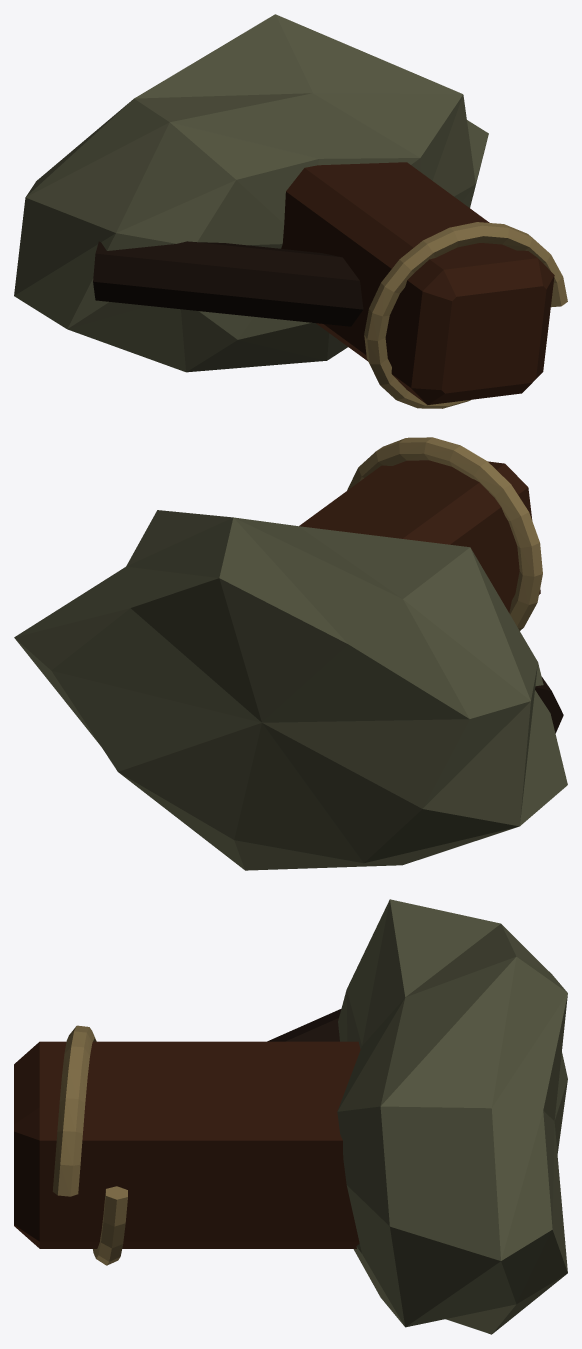
File: BridgeAnchor.obj
3 views of the same model, one above another, from view 1: azimuth 30°, elevation 25°; view 2: azimuth 150°, elevation 25°; view 3: azimuth 270°, elevation 25° (orthographic). The views are drawn at different scales.
Parts seen in each view (by area): view 1: BridgeAnchor; view 2: BridgeAnchor; view 3: BridgeAnchor.
Part boxes in pixels (x1=…): BridgeAnchor: x1=14, y1=14, x2=567, y2=408; BridgeAnchor: x1=14, y1=437, x2=567, y2=870; BridgeAnchor: x1=14, y1=899, x2=567, y2=1334.
Size of the model in its own units: 95 by 64 by 85.
